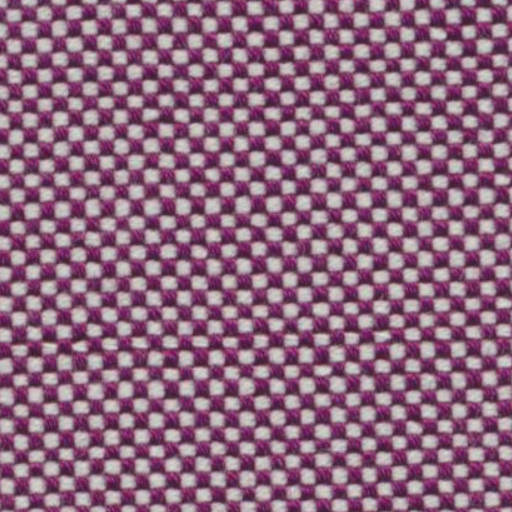TuoSha: (16, 318, 498, 364)
